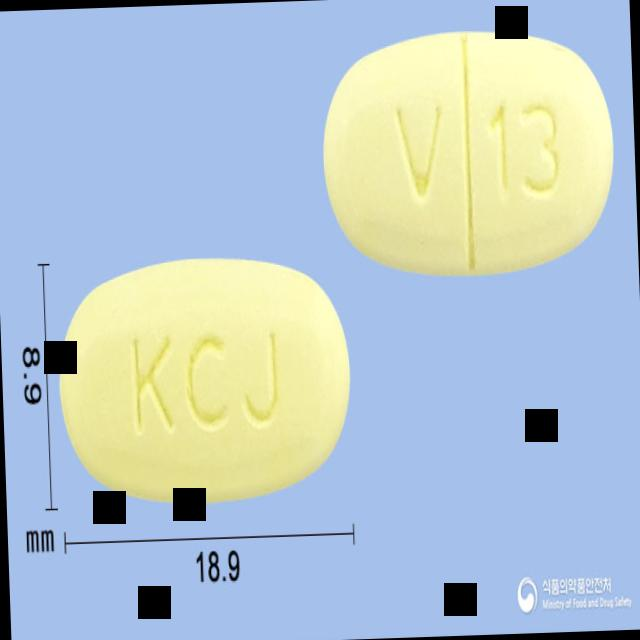Retami Tab: (54, 249, 355, 509), (317, 22, 619, 280)
